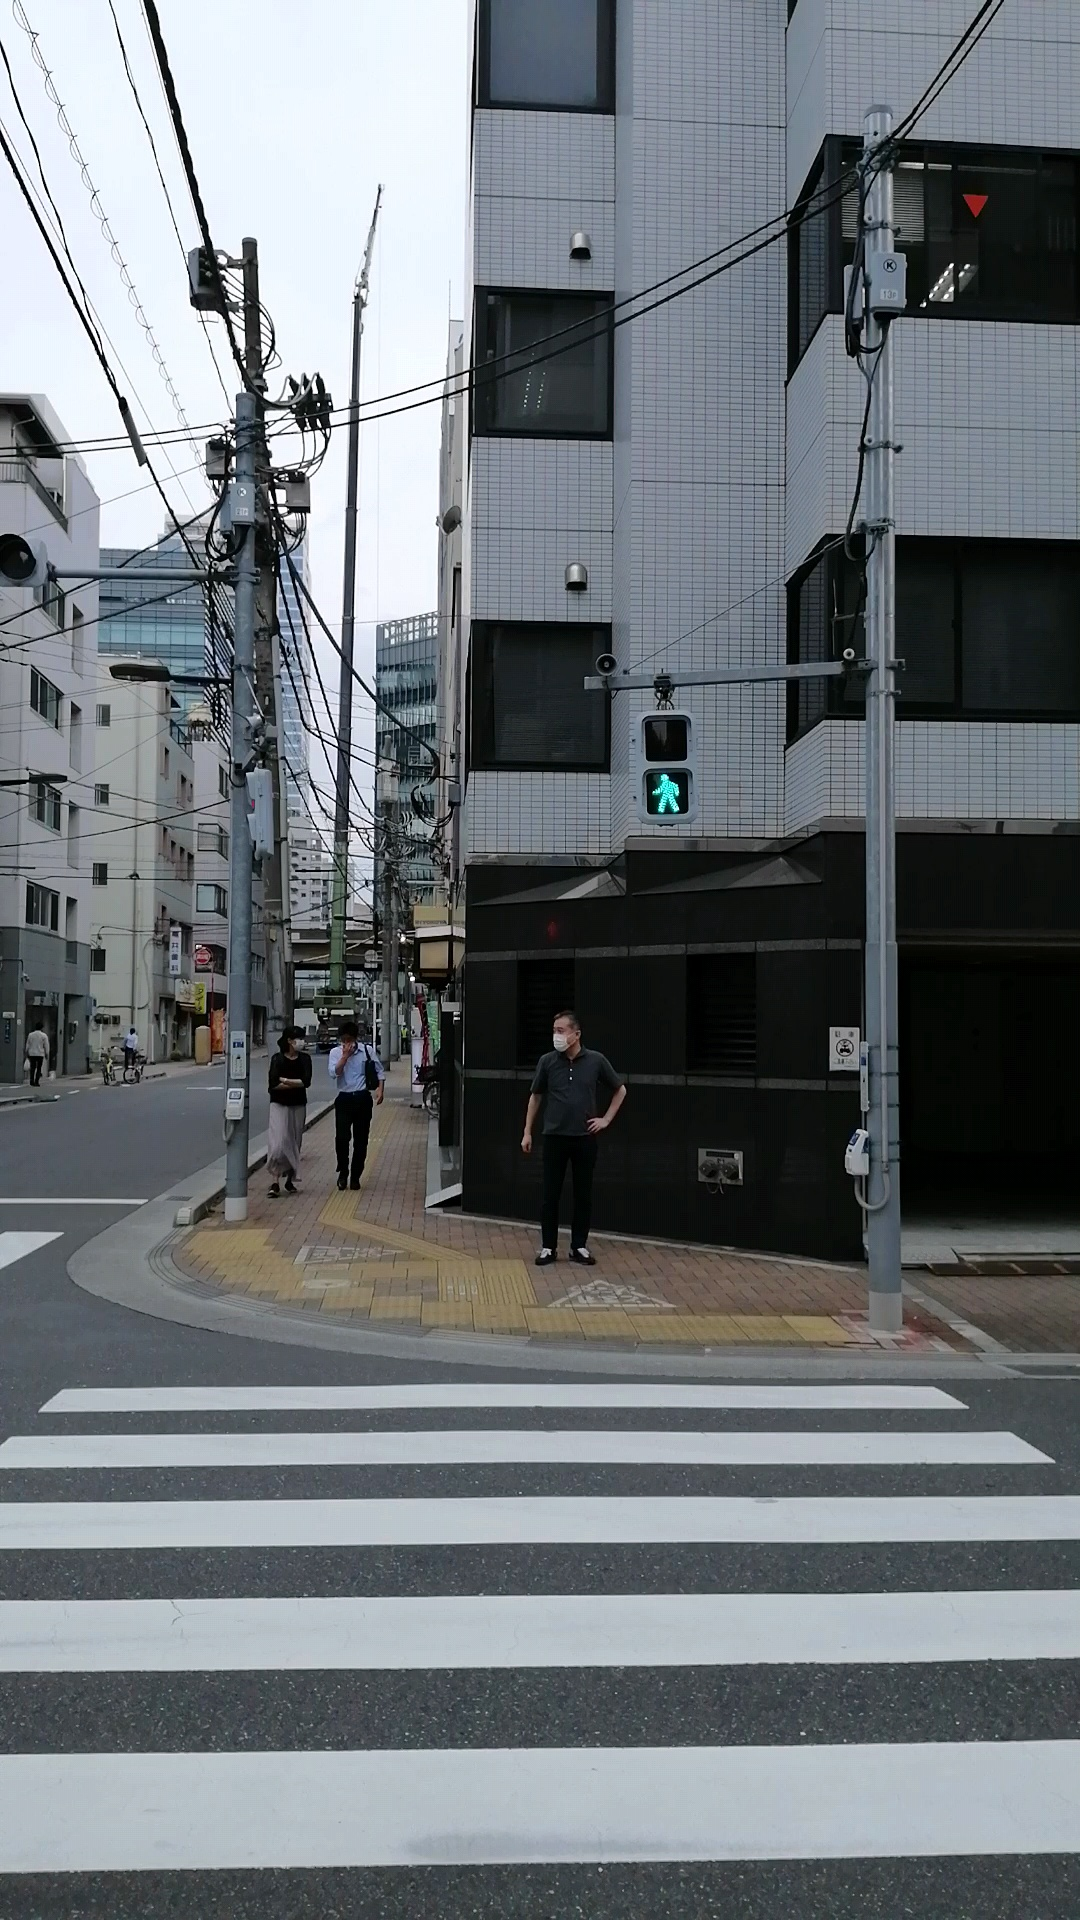green: (636, 709, 698, 823)
